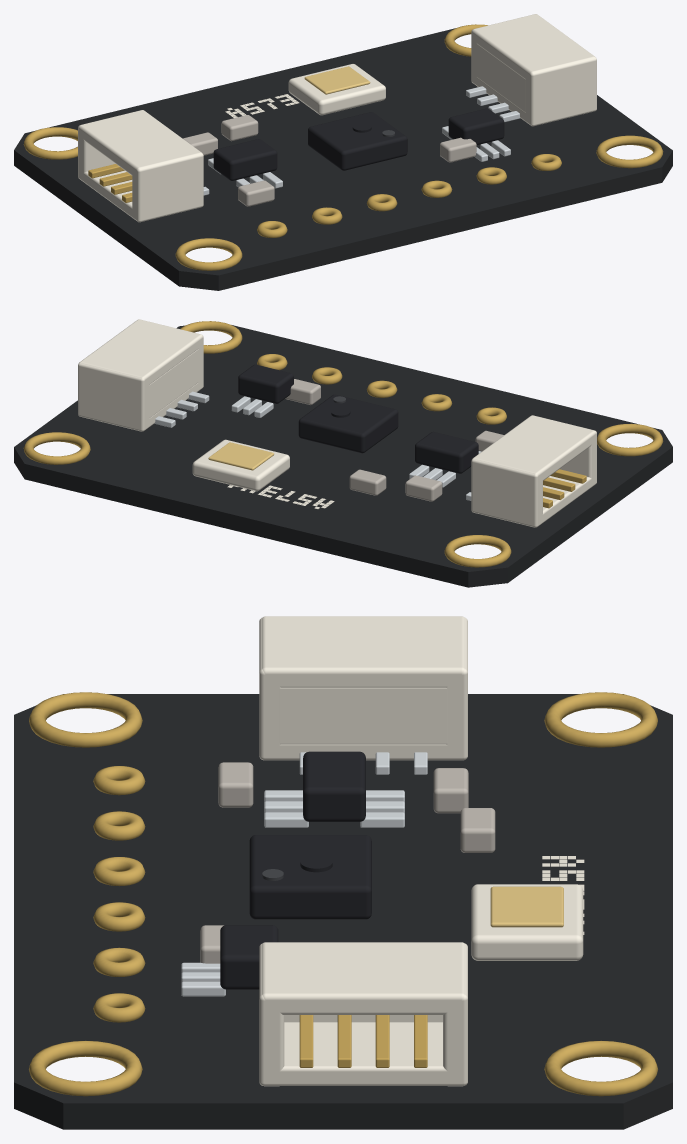
The model's file is sensors-22.glb.
3 renders of one model, top to bottom at view 1: azimuth 30°, elevation 25°; view 2: azimuth 150°, elevation 25°; view 3: azimuth 270°, elevation 25°, orthographic. The views are drawn at different scales.
Visible parts, largest first — view 1: pcb, right-socket, left-socket, electronics, mounts, chip, lamp, pads; view 2: pcb, right-socket, left-socket, electronics, mounts, chip, lamp, pads; view 3: pcb, left-socket, right-socket, electronics, mounts, chip, lamp, pads.
Boxes of the visible parts, box(x1,y1,x2,y2) form: pcb: box(14, 28, 672, 290); right-socket: box(466, 14, 596, 126); left-socket: box(78, 110, 209, 222); electronics: box(183, 108, 510, 206); mounts: box(23, 24, 663, 270); chip: box(308, 112, 407, 170); lamp: box(288, 64, 385, 115); pads: box(257, 154, 561, 237); pcb: box(14, 325, 672, 587); right-socket: box(78, 319, 209, 431); left-socket: box(466, 415, 596, 527); electronics: box(231, 364, 503, 501); mounts: box(23, 321, 663, 567); chip: box(298, 394, 398, 453); lamp: box(192, 439, 289, 491); pads: box(257, 354, 506, 424); pcb: box(14, 694, 672, 1129); left-socket: box(259, 616, 467, 774); right-socket: box(259, 942, 467, 1086); electronics: box(181, 751, 495, 996); mounts: box(29, 692, 657, 1096); chip: box(249, 835, 371, 919); lamp: box(471, 884, 583, 960); pads: box(93, 766, 145, 1022).
Bounding box in the file's own units: 2.16 × 0.2955 × 1.47.
